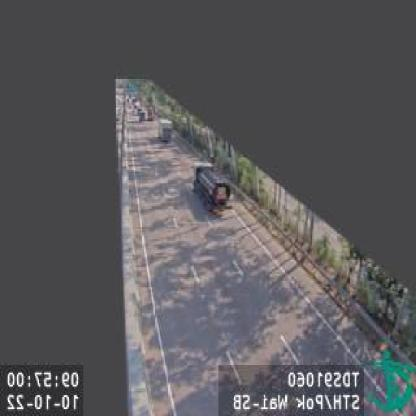Truck: (193, 160, 232, 213), (159, 119, 173, 143)
